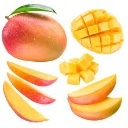mango: (2, 11, 68, 62)
